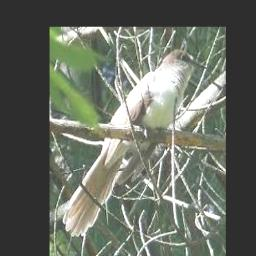Cuckoo: (63, 50, 208, 236)
